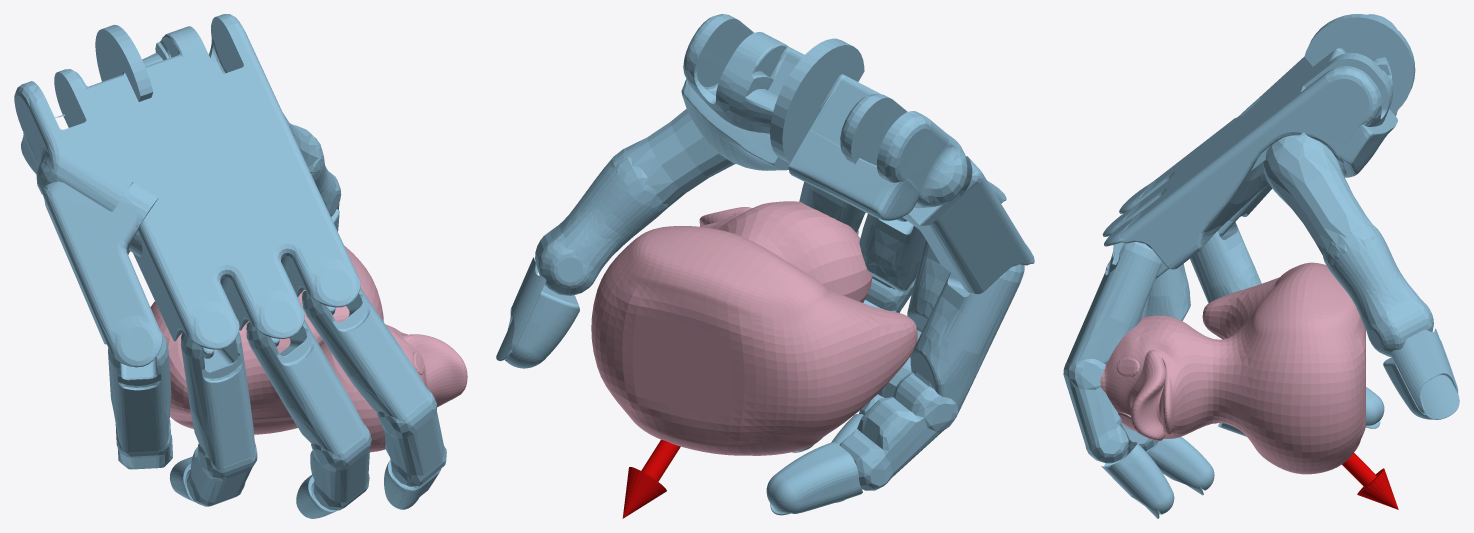
3 renders of one model, left to right at view 1: azimuth 30°, elevation 25°; view 2: azimuth 150°, elevation 25°; view 3: azimuth 270°, elevation 25°, orthographic. The views are drawn at different scales.
Visible parts, largest first — view 1: world, rubber_duck.stl; view 2: world, rubber_duck.stl; view 3: world, rubber_duck.stl.
Boxes of the visible parts, x1,y1,x2,y2 form: world: (14,14,446,518); rubber_duck.stl: (150,245,467,452); world: (496,14,1034,518); rubber_duck.stl: (591,201,917,455); world: (1063,14,1459,518); rubber_duck.stl: (1100,262,1365,474).
Bounding box in the file's own units: 0.1357 × 0.1643 × 0.1382.
